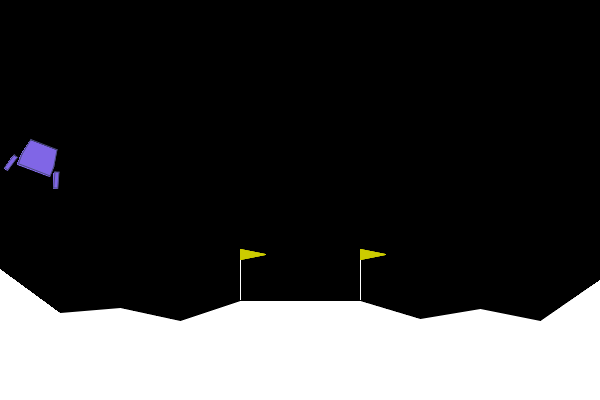lander: (2, 132, 72, 191)
